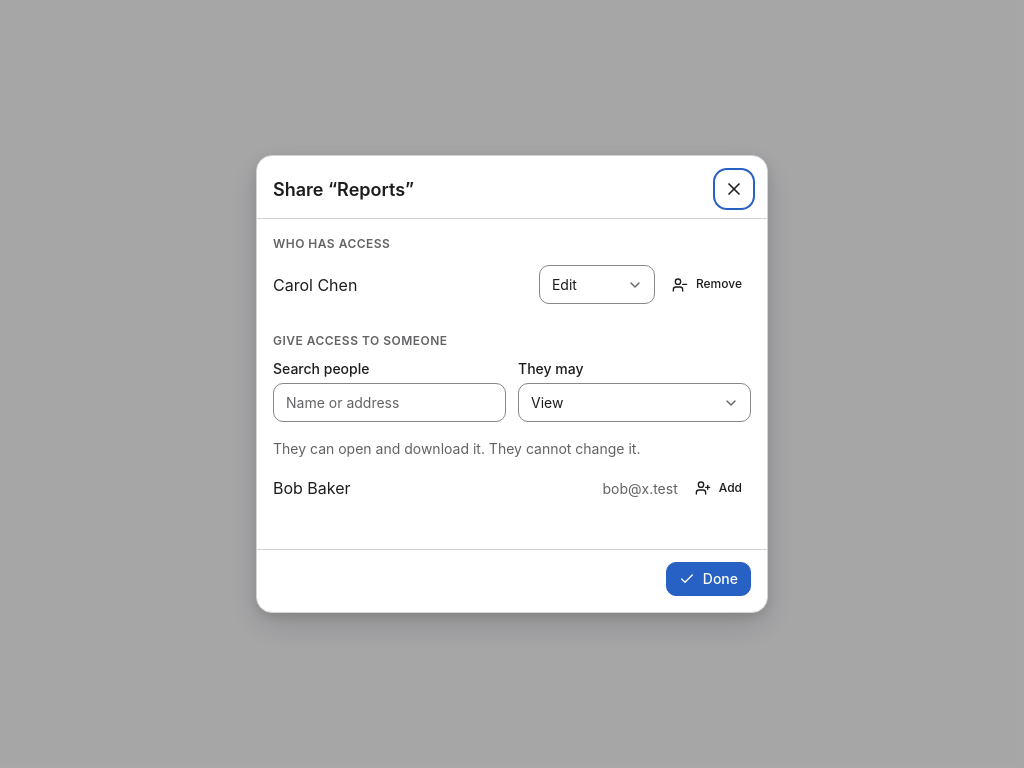
Scenario: when the write fails › says so and keeps showing what the server still has
The width and height of the screenshot is (1024, 768).
Expected: the text "Bob Baker" is shown, top-left (273, 478), bottom-right (351, 498)
Click the button with aria-label "Give Bob Baker access": (718, 488) top-left (686, 471), bottom-right (751, 505)
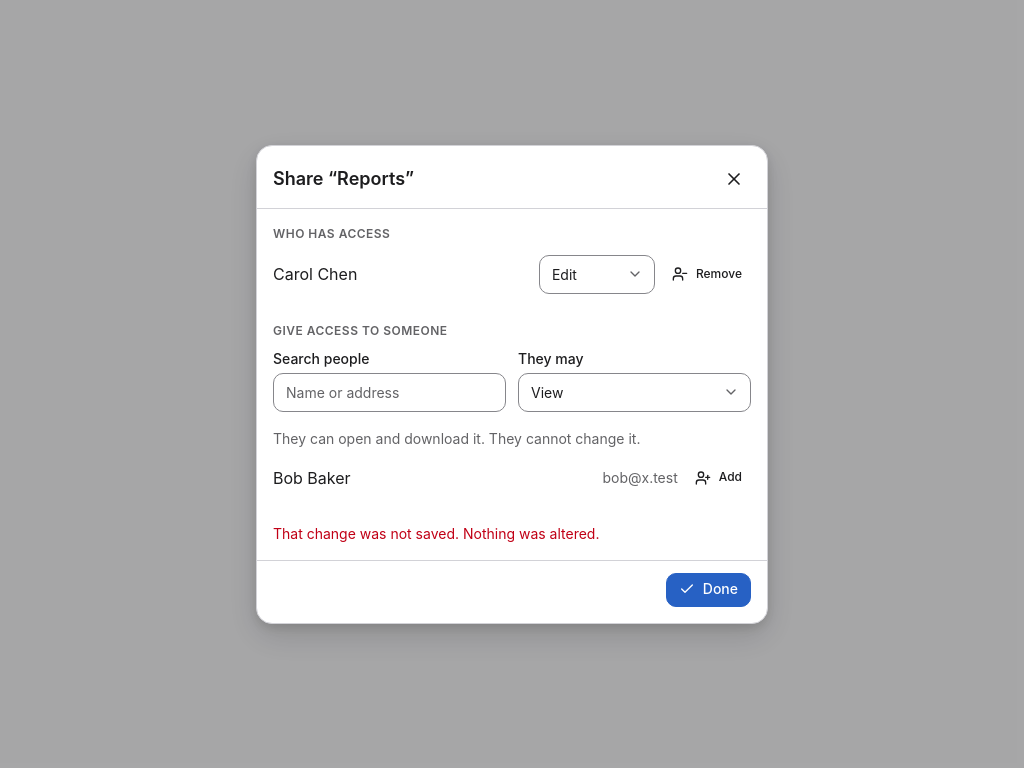
Expected: the button with aria-label "Give Bob Baker access" is shown, top-left (686, 460), bottom-right (751, 494)
Result: the text "That change was not saved. Nothing was altered." is shown at top-left (273, 524), bottom-right (600, 542)
